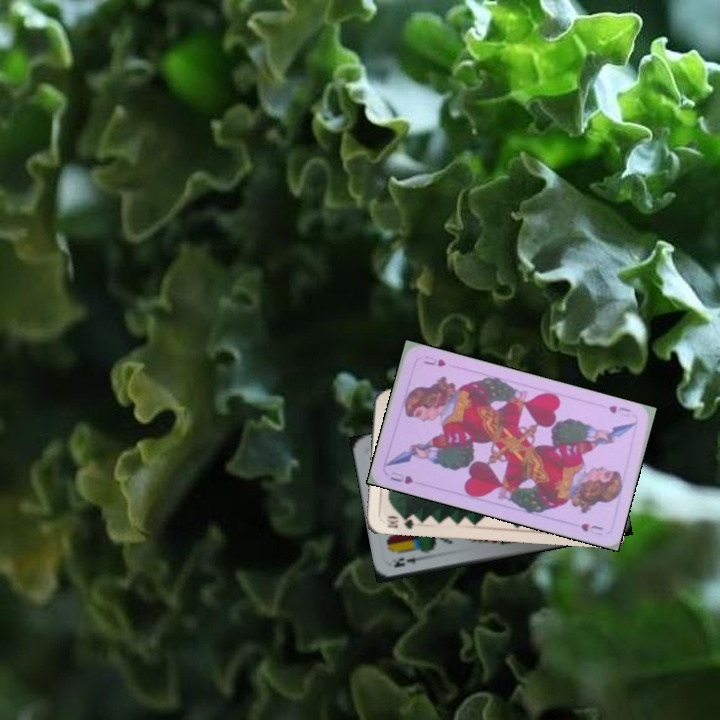EK: (388, 552, 428, 570)
G10: (382, 511, 421, 531)
HU: (386, 467, 416, 486), (604, 401, 633, 416)
